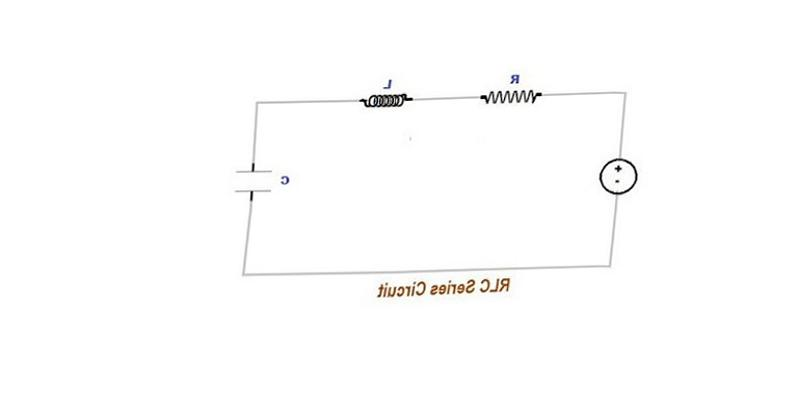Battery: (585, 137, 651, 205)
